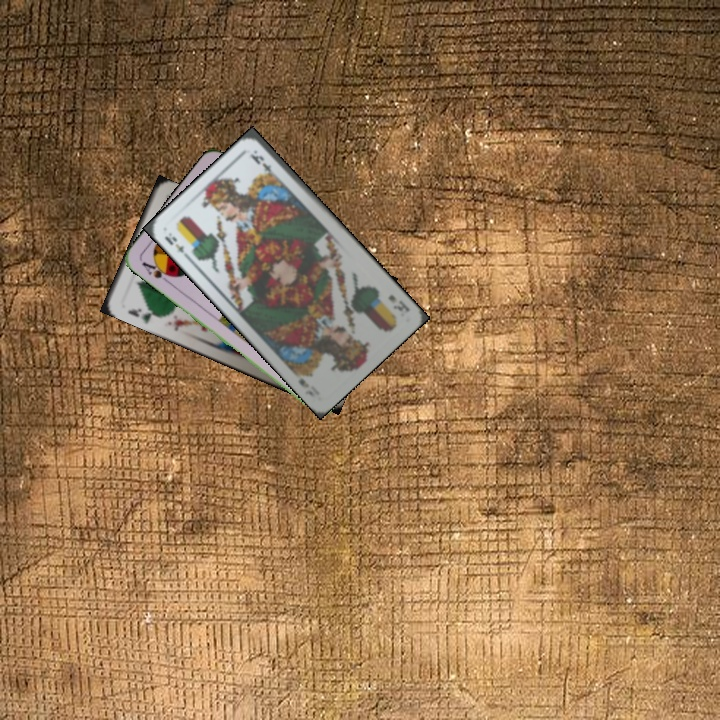EK: (160, 228, 192, 262), (384, 291, 412, 316)
GK: (124, 304, 158, 326)
SA: (138, 257, 176, 281)
